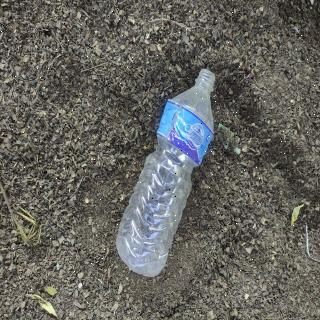Plastic-bottle: (114, 66, 220, 280)
